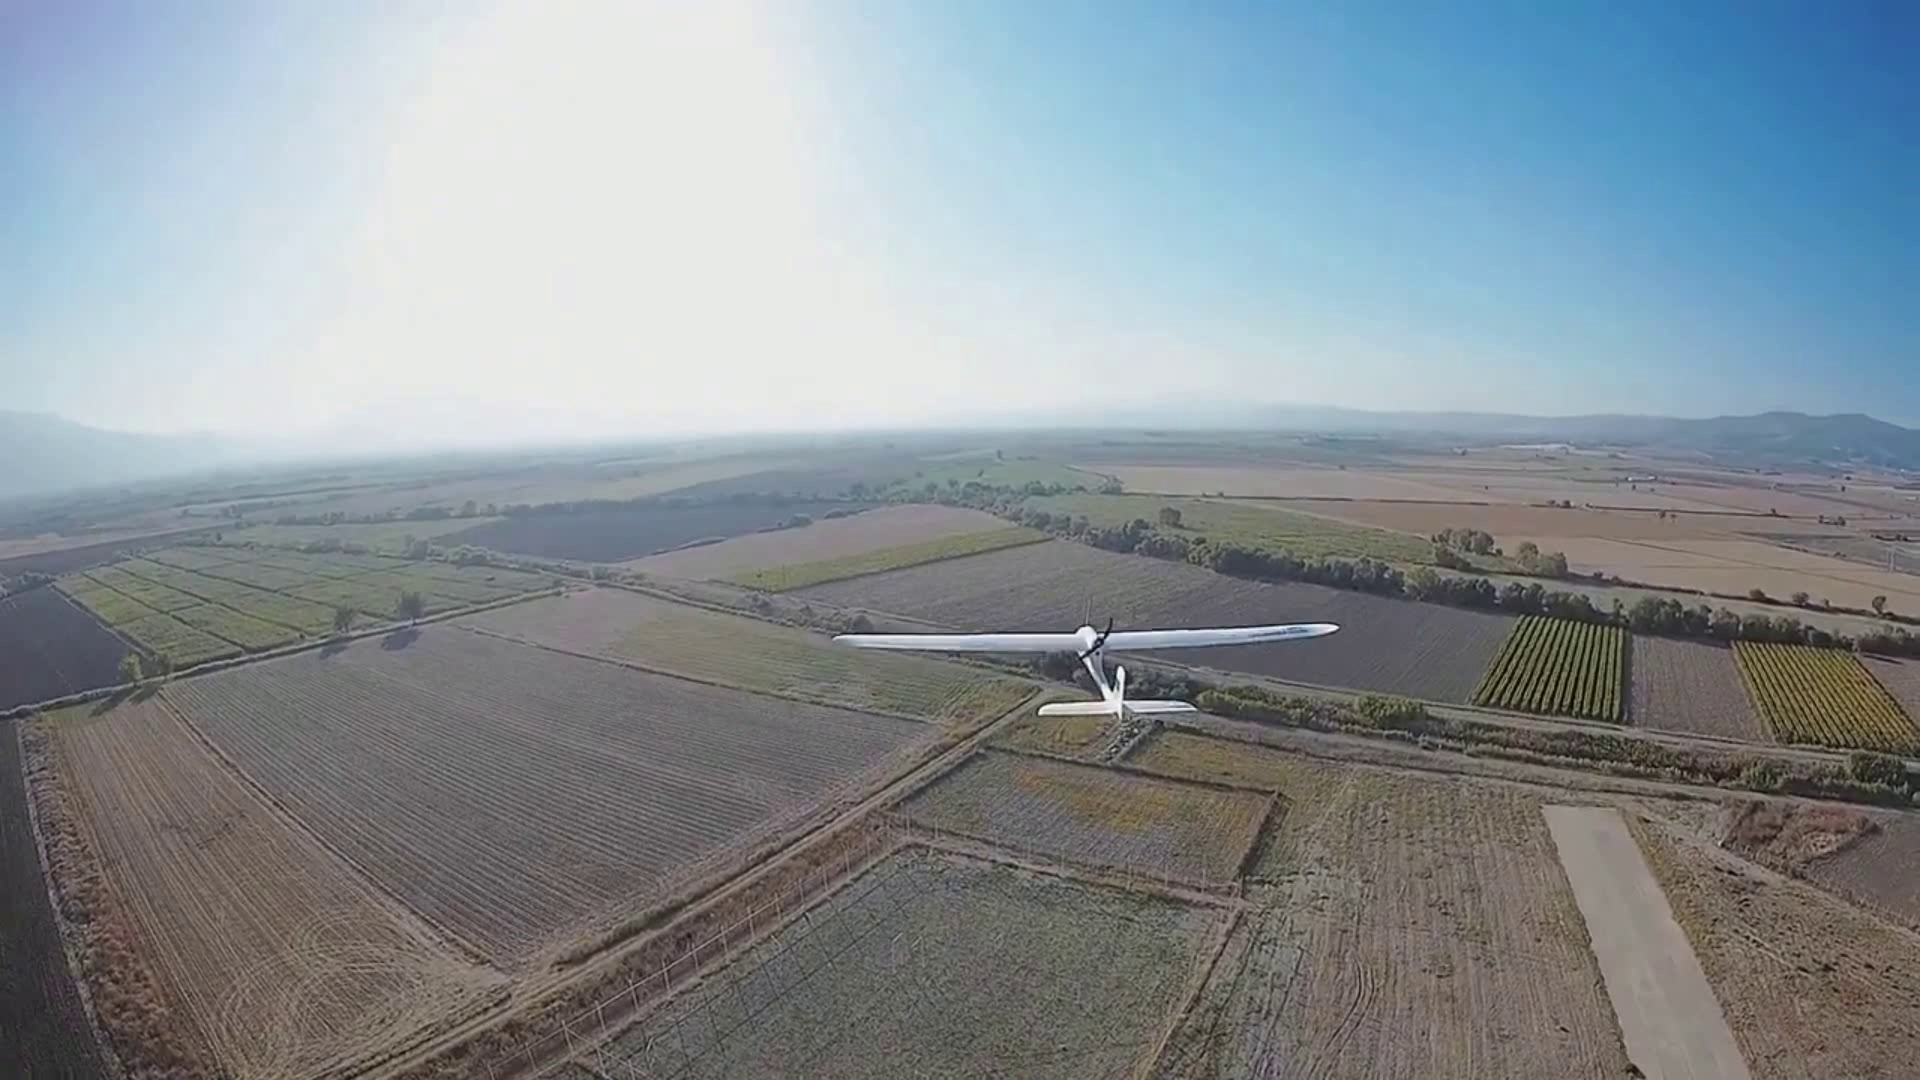airplane: (826, 614, 1343, 719)
